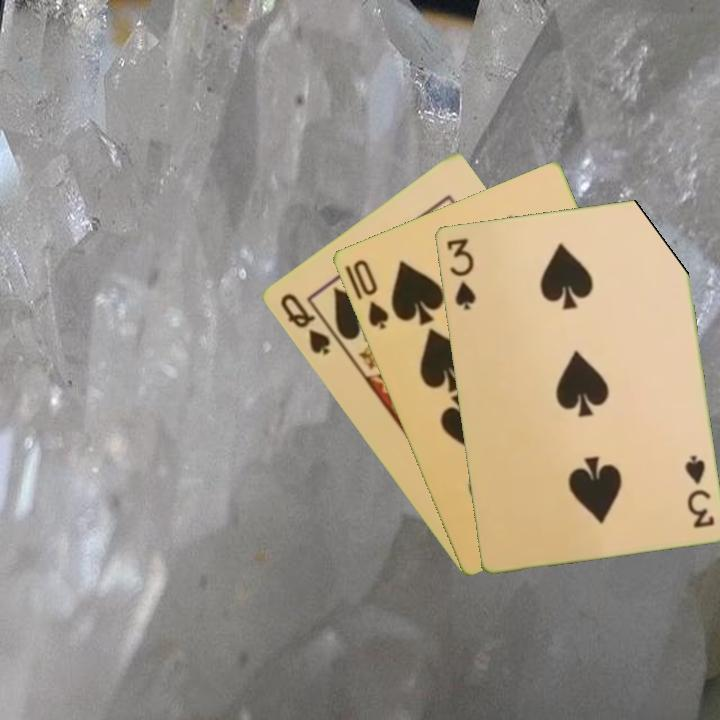10s: (349, 255, 391, 332)
3s: (680, 451, 717, 531), (443, 234, 478, 313)
Qs: (276, 289, 333, 358)
